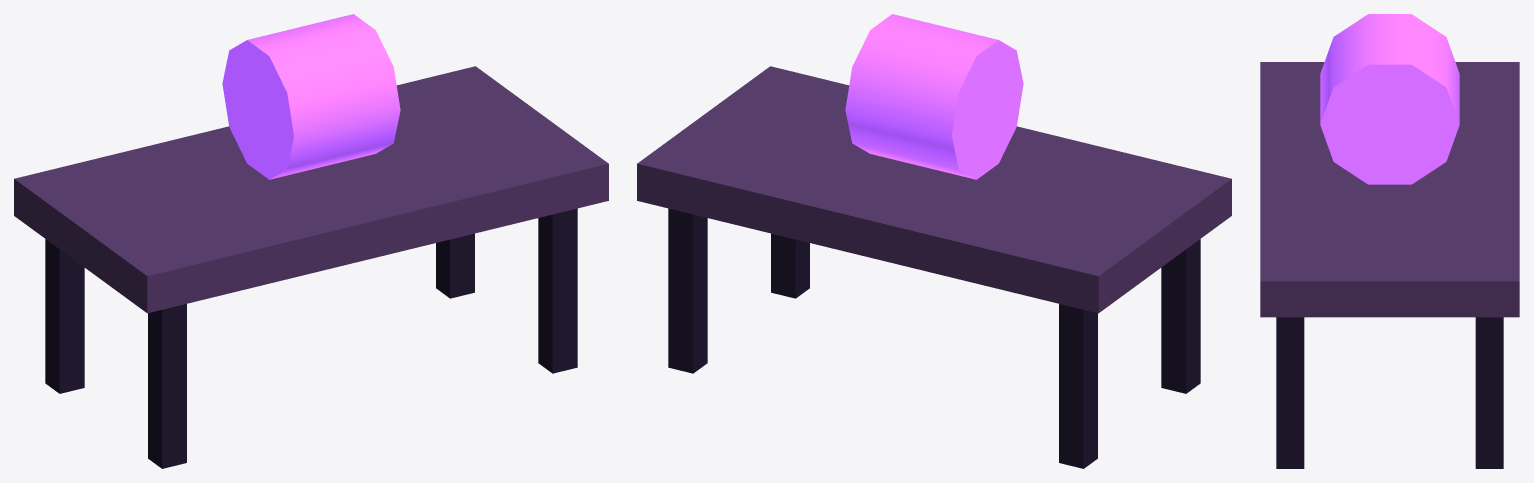
The model's file is contact-desk.glb.
3 renders of one model, left to right at view 1: azimuth 30°, elevation 25°; view 2: azimuth 150°, elevation 25°; view 3: azimuth 270°, elevation 25°, orthographic. The views are drawn at different scales.
Parts seen in each view (by area): view 1: deskTop, mailbox, leg_3, leg_2, leg_0, leg_1; view 2: deskTop, mailbox, leg_1, leg_0, leg_2, leg_3; view 3: deskTop, mailbox, leg_1, leg_3.
Part boxes in pixels (box(x1,y1,x2,y2)): deskTop: box(14, 66, 608, 313); mailbox: box(222, 14, 400, 179); leg_3: box(538, 208, 577, 373); leg_2: box(148, 304, 186, 468); leg_0: box(45, 239, 84, 393); leg_1: box(436, 233, 474, 298); deskTop: box(637, 66, 1231, 313); mailbox: box(845, 14, 1023, 179); leg_1: box(668, 208, 707, 373); leg_0: box(1059, 304, 1097, 468); leg_2: box(1161, 239, 1200, 393); leg_3: box(771, 233, 809, 298); deskTop: box(1260, 62, 1519, 317); mailbox: box(1320, 14, 1459, 184); leg_1: box(1475, 317, 1503, 468); leg_3: box(1276, 317, 1304, 468).
Bounding box in the file's own units: 2.6 × 1.83 × 1.3.
